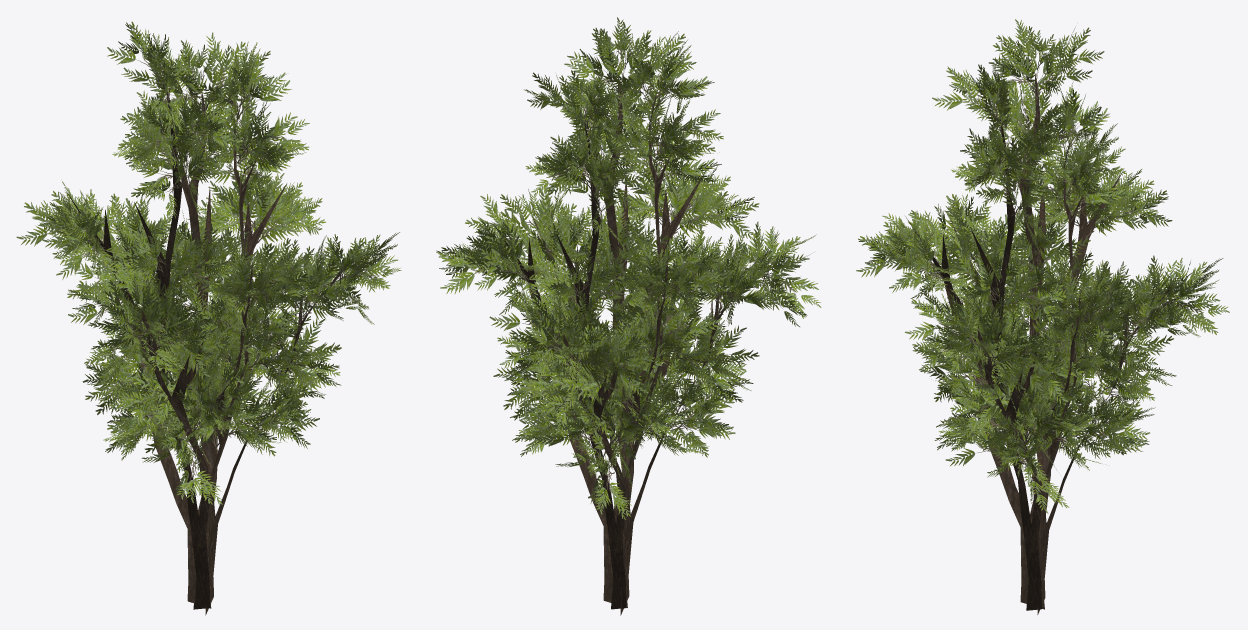
File: tree.glb
The picture shows the model from 3 angles, left to right: view 1: azimuth 30°, elevation 25°; view 2: azimuth 150°, elevation 25°; view 3: azimuth 270°, elevation 25°; orthographic projection. The views are drawn at different scales.
Visible parts, largest first — view 1: Leaves.008_2684, Bark.008_2685; view 2: Leaves.008_2684, Bark.008_2685; view 3: Leaves.008_2684, Bark.008_2685.
Part boxes in pixels (left/top/right/bottom): Leaves.008_2684: left=16, top=21, right=401, bottom=504; Bark.008_2685: left=65, top=87, right=348, bottom=615; Leaves.008_2684: left=436, top=17, right=821, bottom=519; Bark.008_2685: left=492, top=76, right=769, bottom=615; Leaves.008_2684: left=856, top=19, right=1229, bottom=513; Bark.008_2685: left=905, top=75, right=1172, bottom=614.
Bounding box in the file's own units: 1.79 × 3.02 × 1.81.
Materials: 2 (2 with a texture image).
